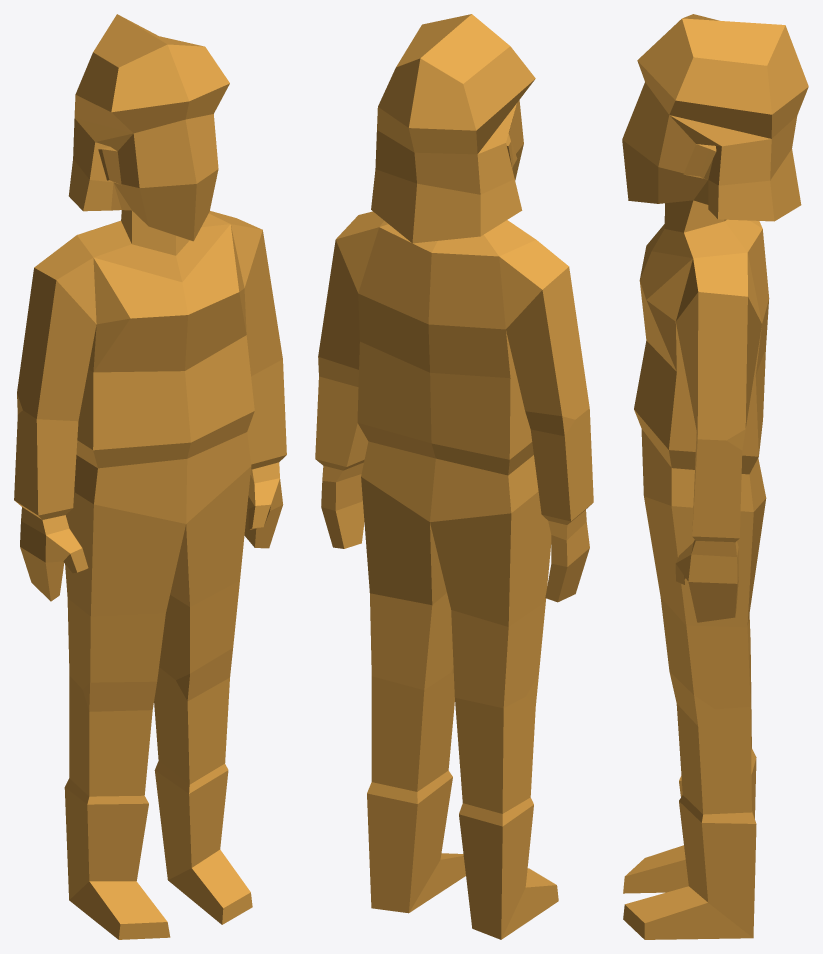
File: girl-winter.fbx
3 renders of one model, left to right at view 1: azimuth 30°, elevation 25°; view 2: azimuth 150°, elevation 25°; view 3: azimuth 270°, elevation 25°, orthographic. The views are drawn at different scales.
Parts seen in each view (by area): view 1: girl-winter; view 2: girl-winter; view 3: girl-winter.
Boxes of the visible parts, left/top/right/bottom form: girl-winter: left=14, top=14, right=286, bottom=939; girl-winter: left=315, top=14, right=593, bottom=939; girl-winter: left=622, top=14, right=808, bottom=939.
Bounding box in the file's own units: 0.3404 × 1.12 × 0.2142.
